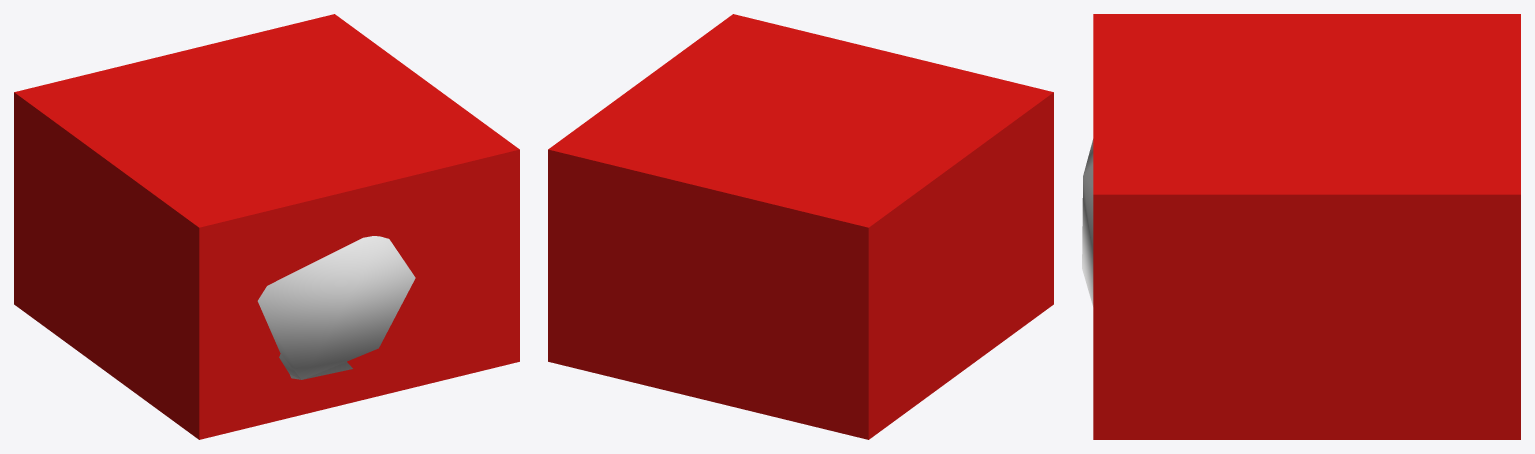
The model's file is pac_rock_tiny_2.dae.
The picture shows the model from 3 angles, left to right: view 1: azimuth 30°, elevation 25°; view 2: azimuth 150°, elevation 25°; view 3: azimuth 270°, elevation 25°; orthographic projection. The views are drawn at different scales.
Visible parts, largest first — view 1: Colmesh_pac_rock_tiny_2-1, pac_rock_tiny_2_a100; view 2: Colmesh_pac_rock_tiny_2-1; view 3: Colmesh_pac_rock_tiny_2-1, pac_rock_tiny_2_a100.
Part boxes in pixels (<box>): Colmesh_pac_rock_tiny_2-1: <box>14,14,519,439</box>; pac_rock_tiny_2_a100: <box>257,236,415,379</box>; Colmesh_pac_rock_tiny_2-1: <box>548,14,1053,439</box>; Colmesh_pac_rock_tiny_2-1: <box>1093,14,1520,439</box>; pac_rock_tiny_2_a100: <box>1082,139,1093,304</box>.
Bounding box in the file's own units: 0.1874 × 0.1923 × 0.1185.
